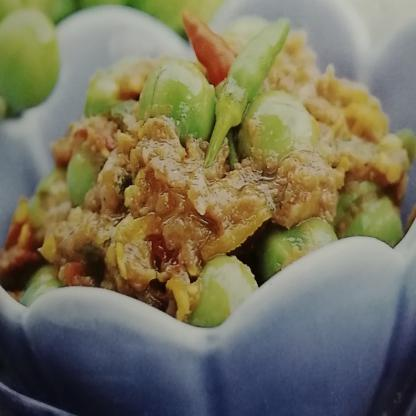Namprig: (0, 8, 414, 393)
